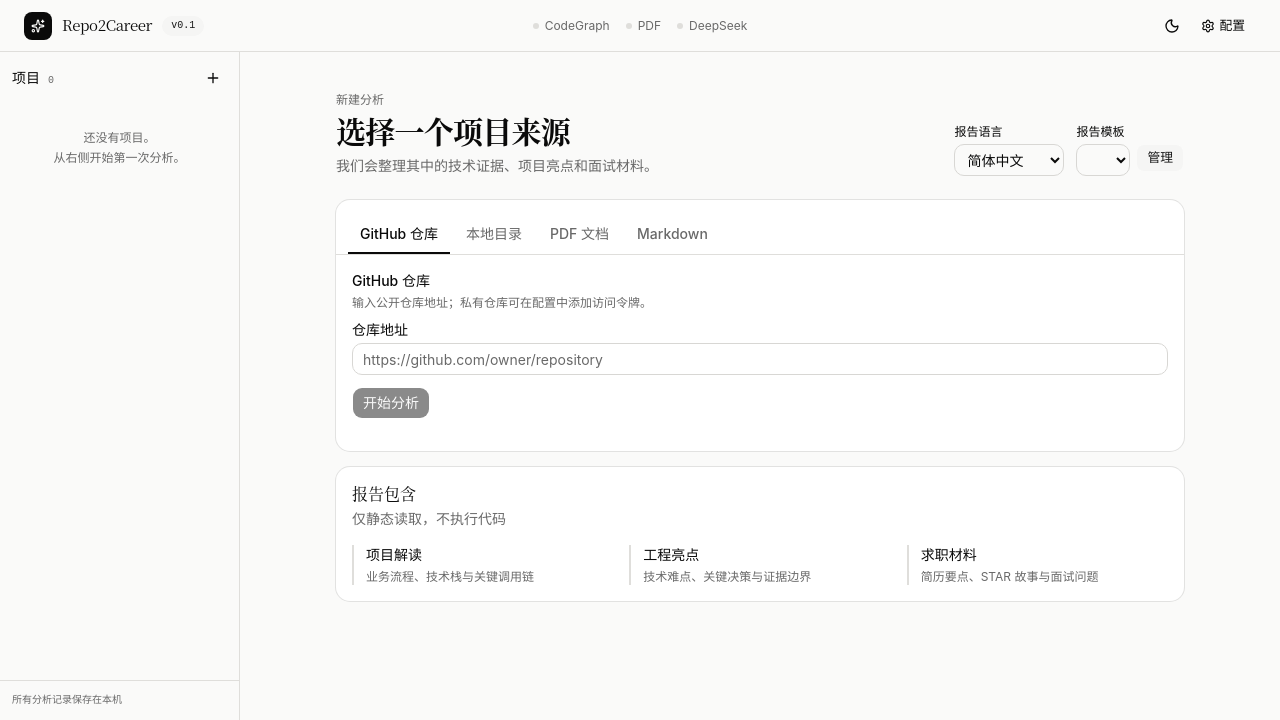
uploads Markdown through the direct document endpoint
Press the mouse on the tab "Markdown" at (672, 235), box [625,216,720,254]
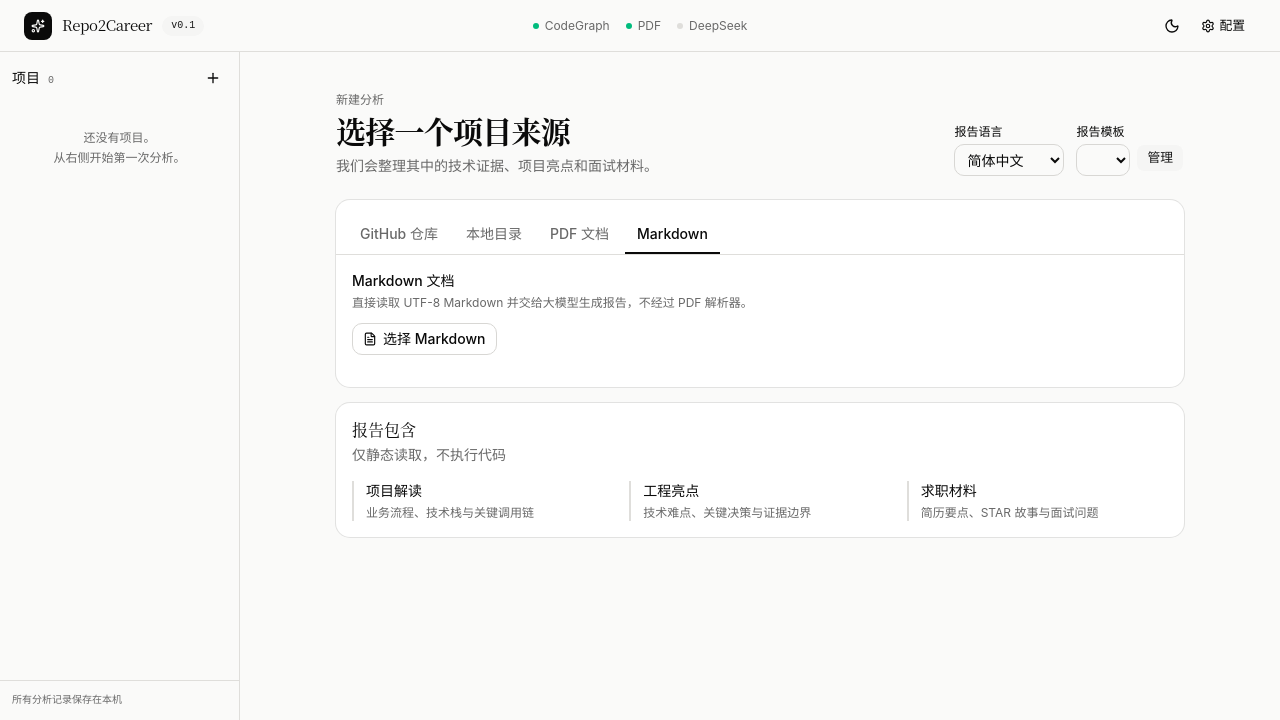
Expected: the file field labelled "选择 Markdown" is shown, [352,323,496,355]
